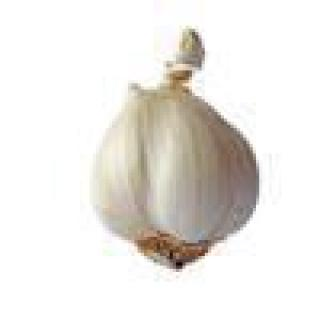Bawang Putih: (88, 23, 261, 270)
